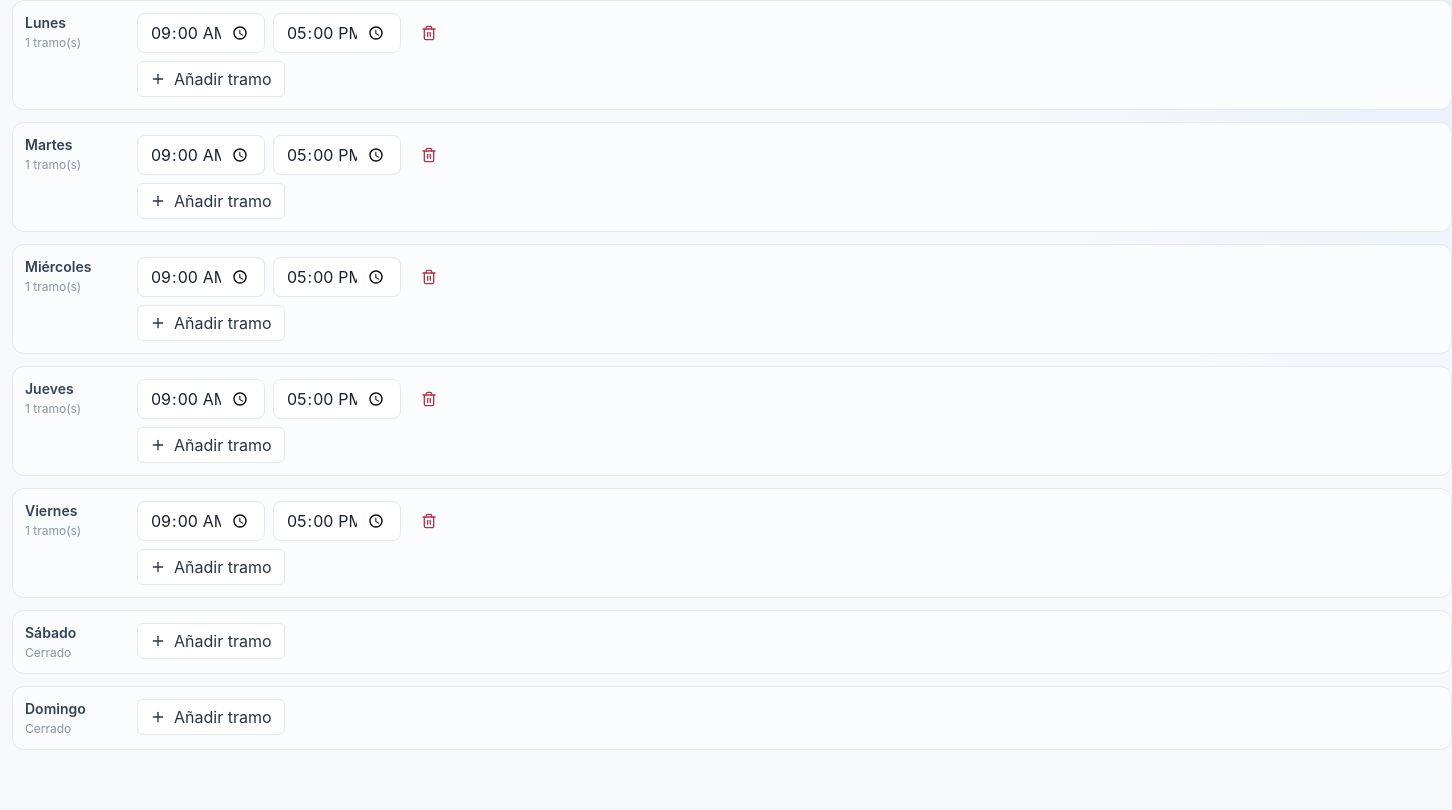
Test: WeeklyHoursEditor › rejects ranges whose end is not after start
The image size is (1452, 810).
Replace the text in the time field named "Lunes fin 1" with "08:00" at (337, 33), box [273,13,401,53]
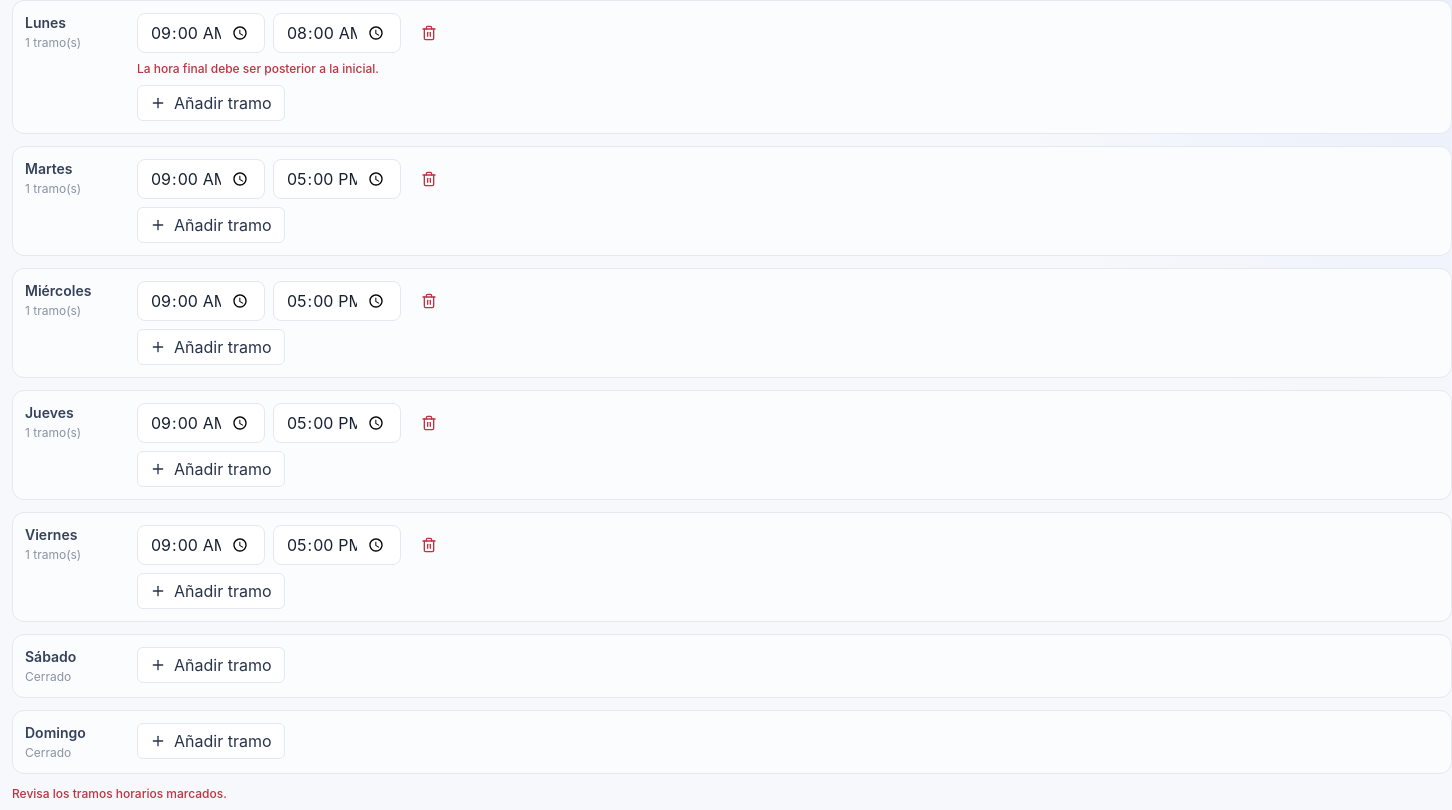
Expected: the text "La hora final debe ser posterior a la inicial." is shown, [137,61,379,76]
